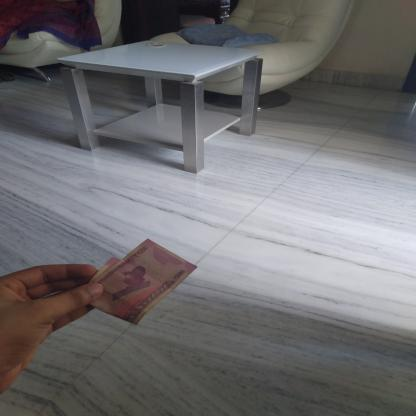New2000Back: (74, 236, 196, 326)
